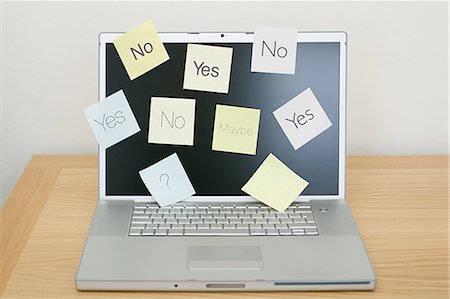Note: (272, 88, 331, 149), (244, 155, 308, 211), (110, 23, 169, 76), (87, 91, 140, 148), (139, 156, 195, 205), (212, 102, 260, 155), (184, 44, 232, 94), (251, 24, 298, 75), (148, 95, 196, 144)
